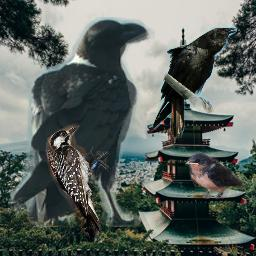Crow: (8, 17, 155, 227), (152, 26, 237, 139)
Swallow: (185, 152, 246, 199)
Woodpecker: (42, 121, 118, 238)
